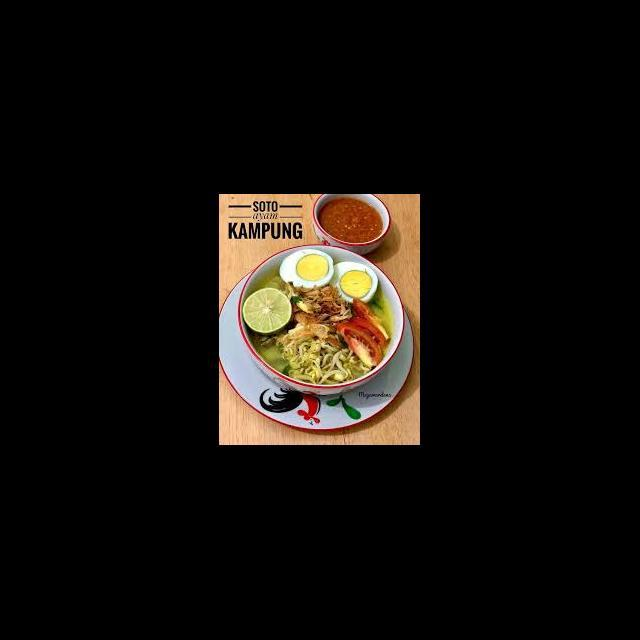Soto: (239, 245, 400, 393)
